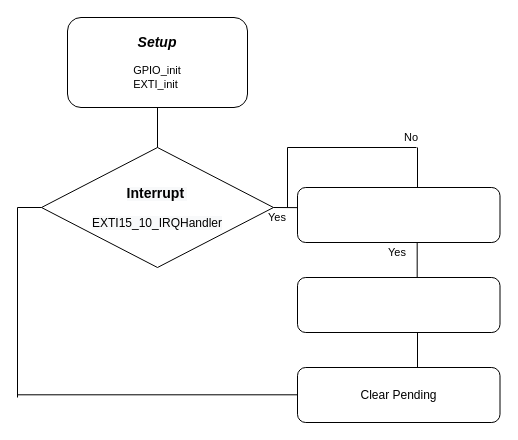
Some shapes in this 518 by 440 pixel diagram are drawn without their labels. Each missing label, with the centre of its shape:
is_pending_EXTI() == 1 ?: point 398,214
Toggle LED: point 398,304
